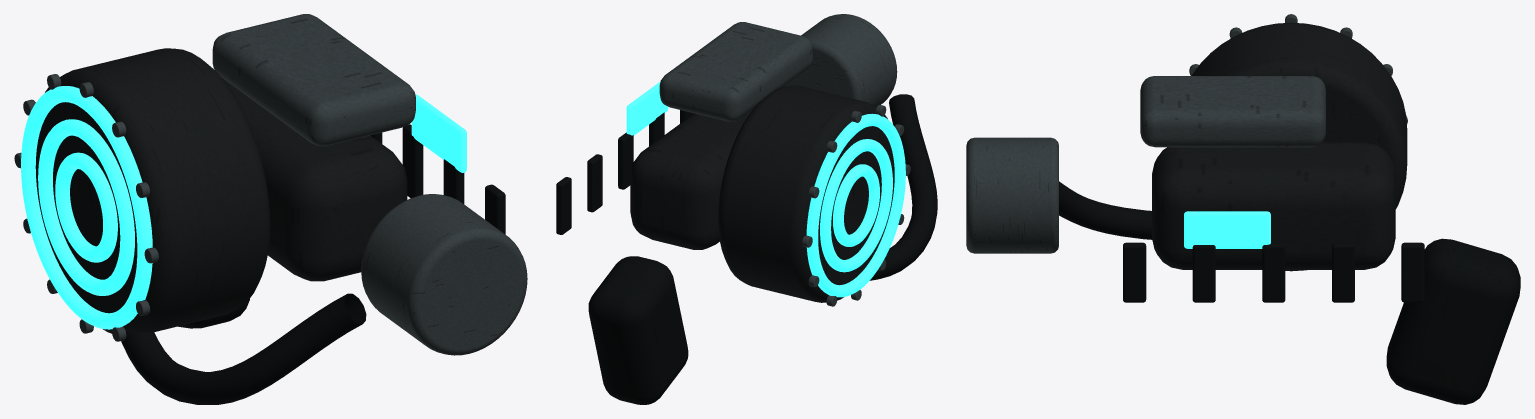
Rendered from echo-grapple.glb.
3 views of the same model, side by side, from view 1: azimuth 30°, elevation 25°; view 2: azimuth 150°, elevation 25°; view 3: azimuth 270°, elevation 25° (orthographic). The views are drawn at different scales.
Parts seen in each view (by area): view 1: Echo reel, Cable guide, Grapple housing, Grapple top shell, Grapple cable loop, Reel energy ring.002, Reel energy ring.001, Reel energy ring, Echo display, Spool cooling vent.002, Spool cooling vent, Spool cooling vent.001 (+1 smaller); view 2: Echo reel, Grapple grip, Grapple housing, Grapple top shell, Cable guide, Reel energy ring.002, Grapple cable loop, Reel energy ring.001, Reel energy ring, Echo display, Spool cooling vent.003, Spool cooling vent.004 (+2 smaller); view 3: Grapple housing, Grapple grip, Echo reel, Grapple top shell, Cable guide, Echo display, Grapple cable loop, Spool cooling vent.004, Spool cooling vent, Spool cooling vent.002, Spool cooling vent.003, Spool cooling vent.001.
Part boxes in pixels (x1,y1,x2,y2): Echo reel: [35, 48, 270, 333]; Cable guide: [361, 194, 527, 355]; Grapple housing: [222, 78, 407, 281]; Grapple top shell: [212, 14, 415, 146]; Grapple cable loop: [121, 293, 366, 404]; Reel energy ring.002: [21, 86, 152, 329]; Reel energy ring.001: [38, 119, 134, 295]; Reel energy ring: [55, 152, 117, 262]; Echo display: [411, 94, 466, 172]; Spool cooling vent.002: [402, 124, 423, 198]; Spool cooling vent: [485, 184, 505, 234]; Spool cooling vent.001: [443, 159, 464, 203]; Echo reel: [718, 85, 894, 302]; Grapple grip: [588, 256, 688, 404]; Grapple housing: [630, 108, 753, 249]; Grapple top shell: [659, 22, 812, 121]; Cable guide: [783, 14, 897, 106]; Reel energy ring.002: [806, 113, 905, 297]; Grapple cable loop: [870, 94, 937, 280]; Reel energy ring.001: [820, 139, 892, 272]; Reel energy ring: [833, 164, 879, 246]; Echo display: [626, 81, 668, 135]; Spool cooling vent.003: [587, 154, 602, 212]; Spool cooling vent.004: [556, 177, 571, 234]; Grapple housing: [1152, 142, 1395, 269]; Grapple grip: [1386, 238, 1520, 404]; Echo reel: [1191, 22, 1407, 271]; Grapple top shell: [1140, 76, 1325, 147]; Cable guide: [966, 137, 1058, 253]; Echo display: [1184, 211, 1270, 248]; Grapple cable loop: [1059, 181, 1152, 239]; Spool cooling vent.004: [1401, 242, 1424, 302]; Spool cooling vent: [1123, 242, 1146, 302]; Spool cooling vent.002: [1262, 242, 1285, 302]; Spool cooling vent.003: [1332, 242, 1354, 302]; Spool cooling vent.001: [1192, 245, 1215, 302].
Size of the model in its own units: 0.552 by 0.5794 by 0.9555.
4 materials, 3 textured.
